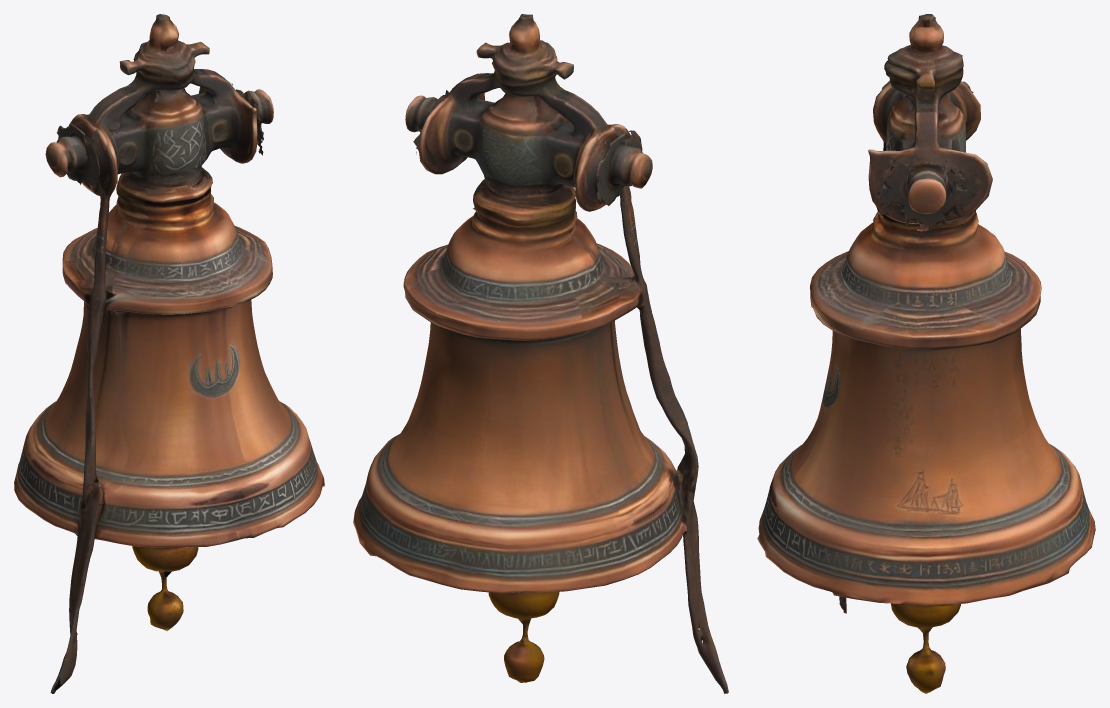
The model's file is bell.glb.
3 renders of one model, left to right at view 1: azimuth 30°, elevation 25°; view 2: azimuth 150°, elevation 25°; view 3: azimuth 270°, elevation 25°, orthographic. The views are drawn at different scales.
Bounding box in the file's own units: 0.9782 × 1.99 × 0.902.
1 material, 1 textured.
